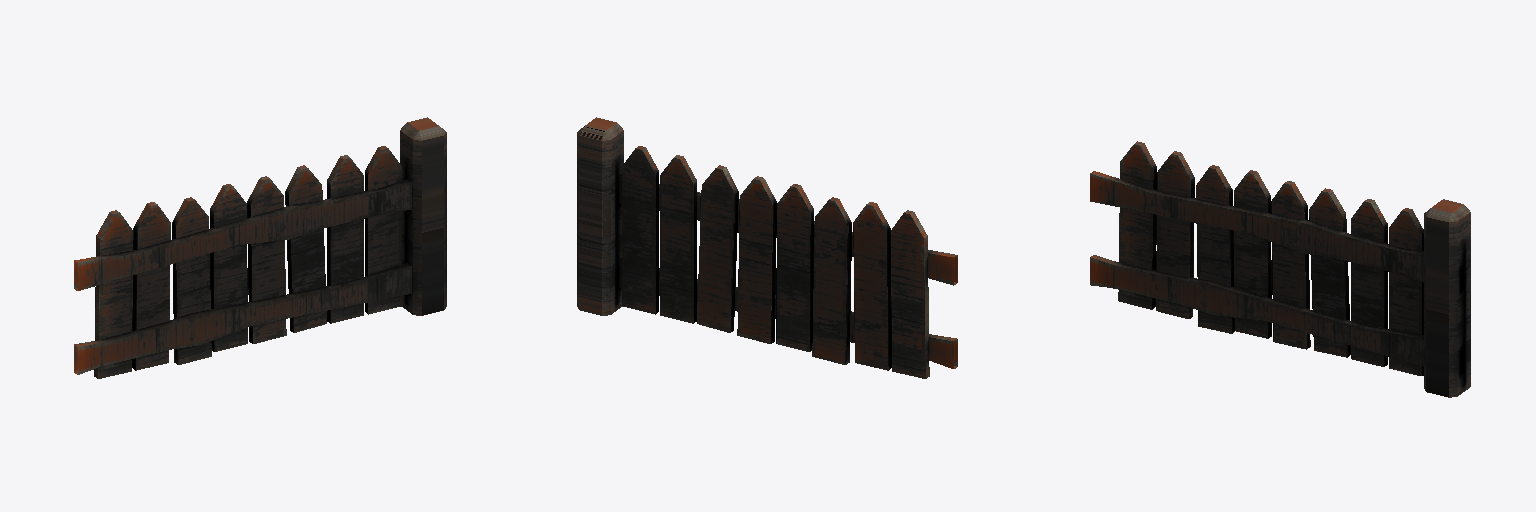
The picture shows the model from 3 angles: view 1: azimuth 30°, elevation 25°; view 2: azimuth 150°, elevation 25°; view 3: azimuth 330°, elevation 25°; orthographic projection.
Parts seen in each view (by area): view 1: fence2; view 2: fence2; view 3: fence2.
Boxes of the visible parts, x1,y1,x2,y2 form: fence2: [74, 117, 446, 378]; fence2: [577, 117, 957, 378]; fence2: [1090, 141, 1470, 397].
Size of the model in its own units: 1.98 by 0.9357 by 0.1799.
1 materials, 1 textured.